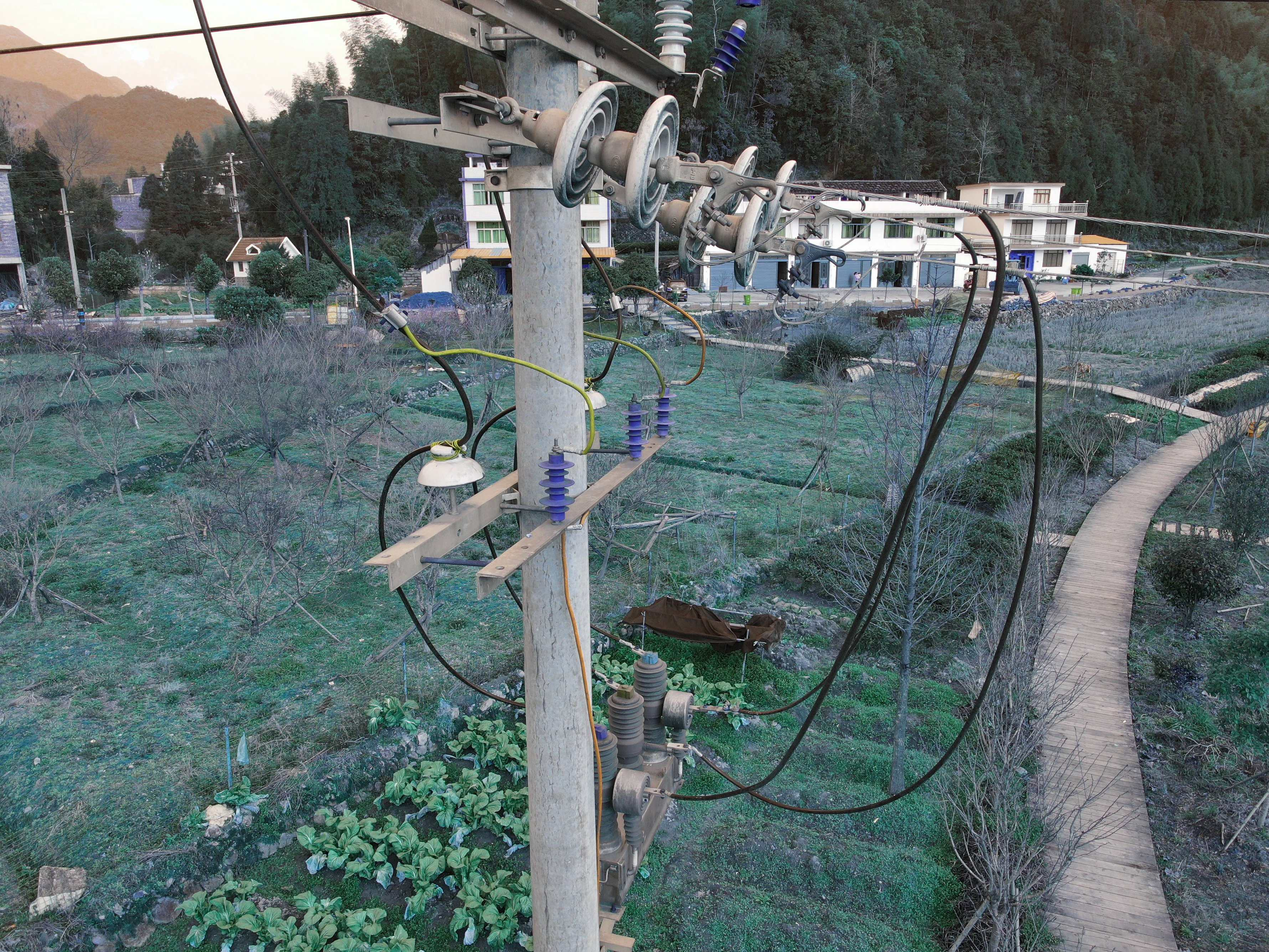severe_soiling_no_discharge_whole: (527, 78, 690, 231), (652, 184, 776, 290), (721, 142, 800, 234)
